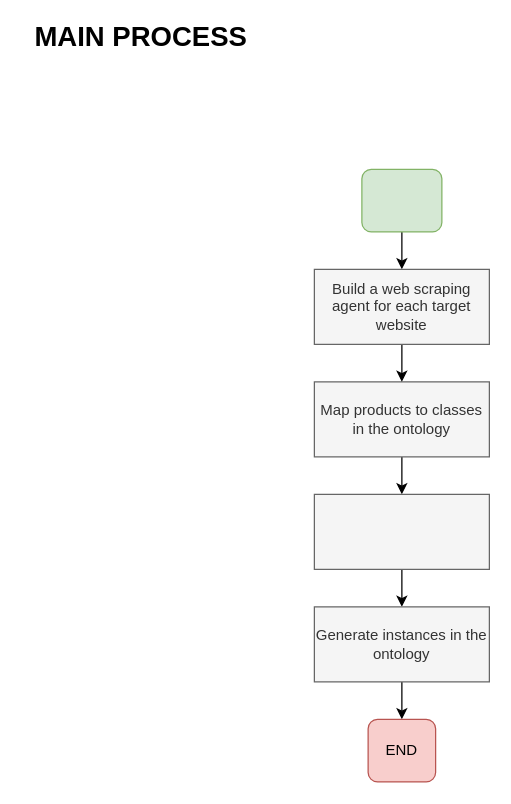
The diagram is 511 pixels wide and 804 high, and some of its shapes have lost their labels. The shapes that lost their labels are listed below. From the top down, each one's centre as x and y in pixels, then its label:
(x=401, y=200): START
(x=401, y=531): Map product specifications to properties in the ontology
